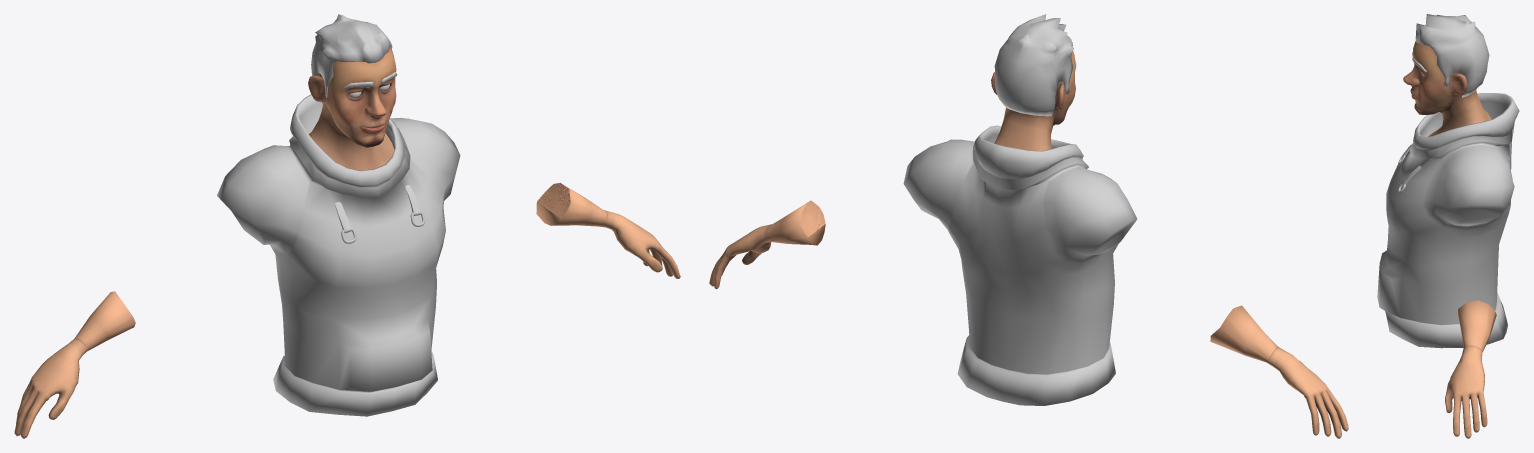
Rendered from Amputado.fbx.
The picture shows the model from 3 angles, left to right: view 1: azimuth 30°, elevation 25°; view 2: azimuth 150°, elevation 25°; view 3: azimuth 270°, elevation 25°; orthographic projection. The views are drawn at different scales.
Parts seen in each view (by area): view 1: saco, personaje.001, personaje, pelo, colgantes; view 2: saco, personaje.001, pelo, personaje; view 3: saco, personaje.001, personaje, pelo, colgantes.
Boxes of the visible parts, <box> form: saco: <box>217,94,460,416</box>; personaje.001: <box>14,183,680,438</box>; personaje: <box>308,47,570,218</box>; pelo: <box>311,14,392,104</box>; colgantes: <box>334,185,425,243</box>; saco: <box>903,125,1137,405</box>; personaje.001: <box>709,201,1348,438</box>; pelo: <box>994,14,1073,116</box>; personaje: <box>800,51,1075,236</box>; saco: <box>1377,93,1519,348</box>; personaje.001: <box>1445,300,1496,438</box>; personaje: <box>1403,41,1491,136</box>; pelo: <box>1415,14,1489,97</box>; colgantes: <box>1398,143,1421,193</box>.
Bounding box in the file's own units: 2268 × 1208 × 508.
